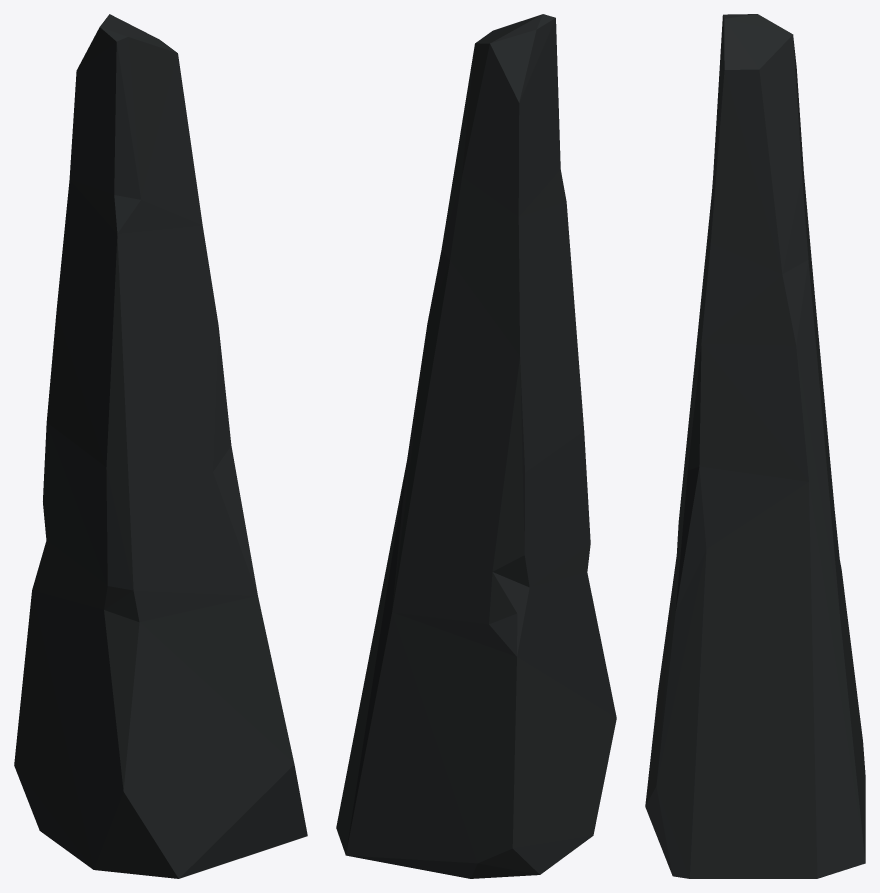
Rendered from Portal_01_Fragment_C.FBX.
3 renders of one model, left to right at view 1: azimuth 30°, elevation 25°; view 2: azimuth 150°, elevation 25°; view 3: azimuth 270°, elevation 25°, orthographic. The views are drawn at different scales.
Visible parts, largest first — view 1: Portal_01_Fragment_C; view 2: Portal_01_Fragment_C; view 3: Portal_01_Fragment_C.
Boxes of the visible parts, x1,y1,x2,y2 form: Portal_01_Fragment_C: (14,14,307,878); Portal_01_Fragment_C: (336,14,616,878); Portal_01_Fragment_C: (645,14,865,878).
Size of the model in its own units: 0.5656 by 2.2 by 0.558.
